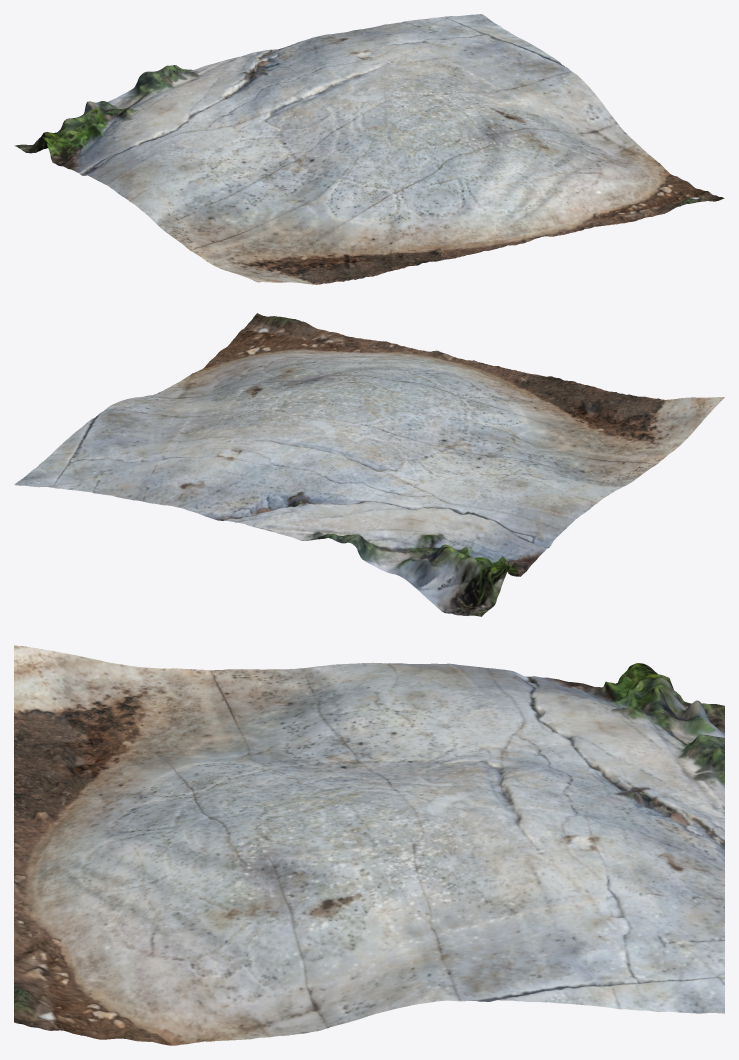
Rendered from dalle-08.glb.
3 views of the same model, one above another, from view 1: azimuth 30°, elevation 25°; view 2: azimuth 150°, elevation 25°; view 3: azimuth 270°, elevation 25° (orthographic). The views are drawn at different scales.
Visible parts, largest first — view 1: Node1; view 2: Node1; view 3: Node1.
Part boxes in pixels (left/top/right/bottom): Node1: left=14, top=14, right=724, bottom=284; Node1: left=14, top=313, right=724, bottom=616; Node1: left=14, top=645, right=724, bottom=1045.
Size of the model in its own units: 1.1 by 0.1403 by 0.9867.
1 material, 1 textured.
